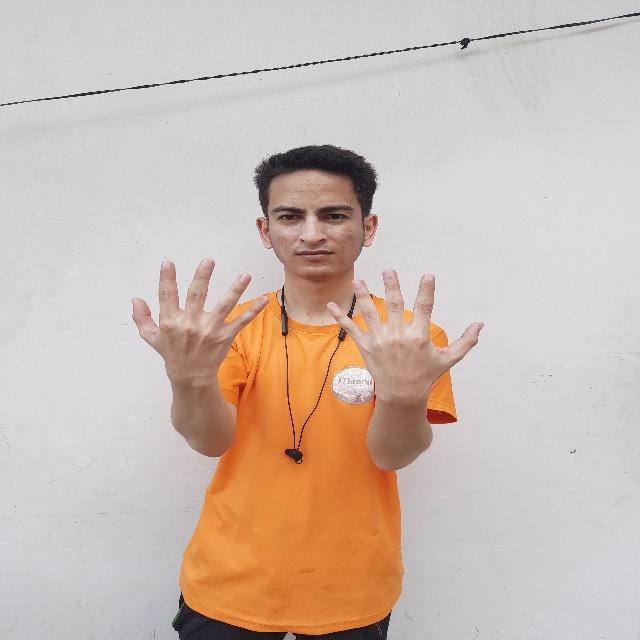Moutza: (319, 260, 494, 410), (119, 249, 274, 398)
